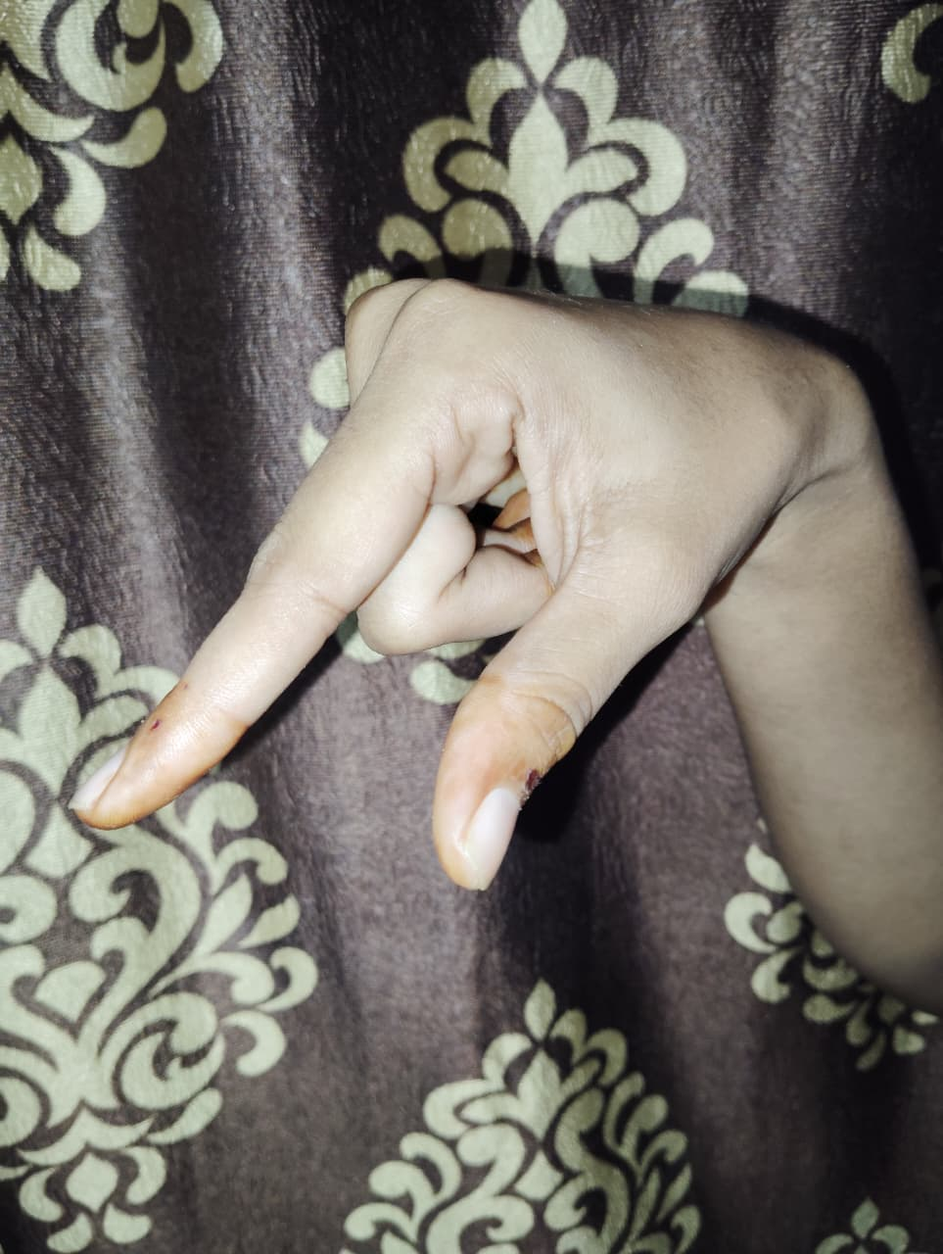Q: (71, 276, 836, 888)
